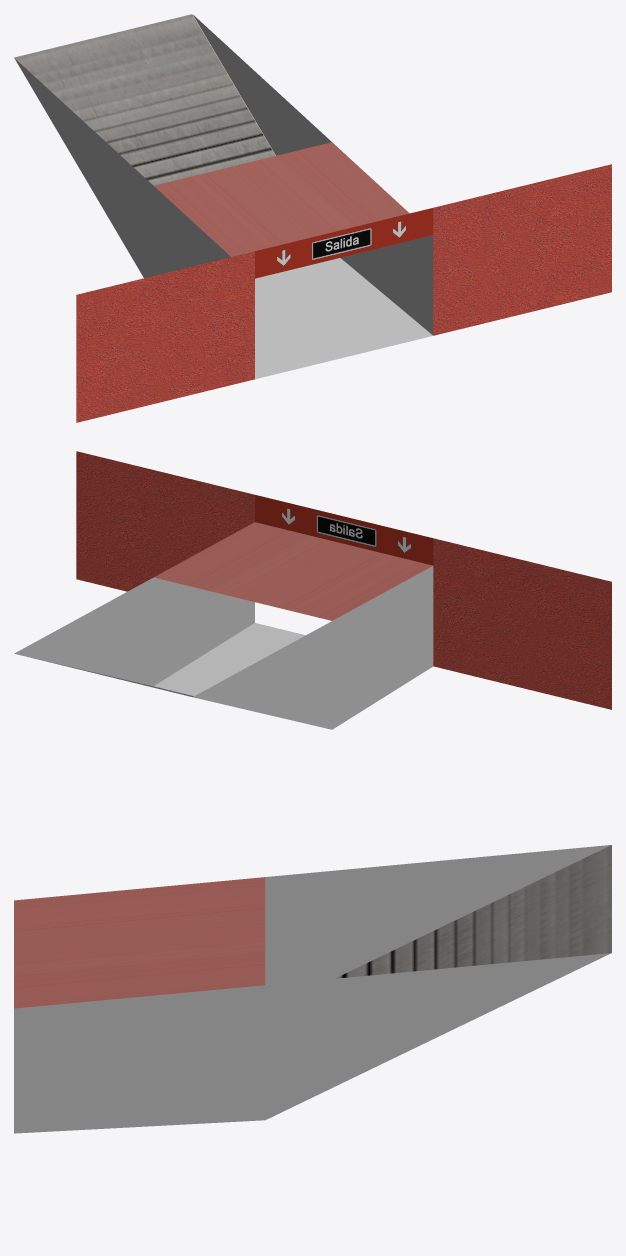
Rendered from ESTADIO_muroGradas.FBX.
3 renders of one model, top to bottom at view 1: azimuth 30°, elevation 25°; view 2: azimuth 150°, elevation 25°; view 3: azimuth 270°, elevation 25°, orthographic. The views are drawn at different scales.
Visible parts, largest first — view 1: ESTADIO_muroGradas; view 2: ESTADIO_muroGradas; view 3: ESTADIO_muroGradas.
Boxes of the visible parts, x1,y1,x2,y2 form: ESTADIO_muroGradas: (14,14,611,422); ESTADIO_muroGradas: (14,451,611,729); ESTADIO_muroGradas: (14,845,611,1133).
Size of the model in its own units: 1750 by 454 by 1363.
